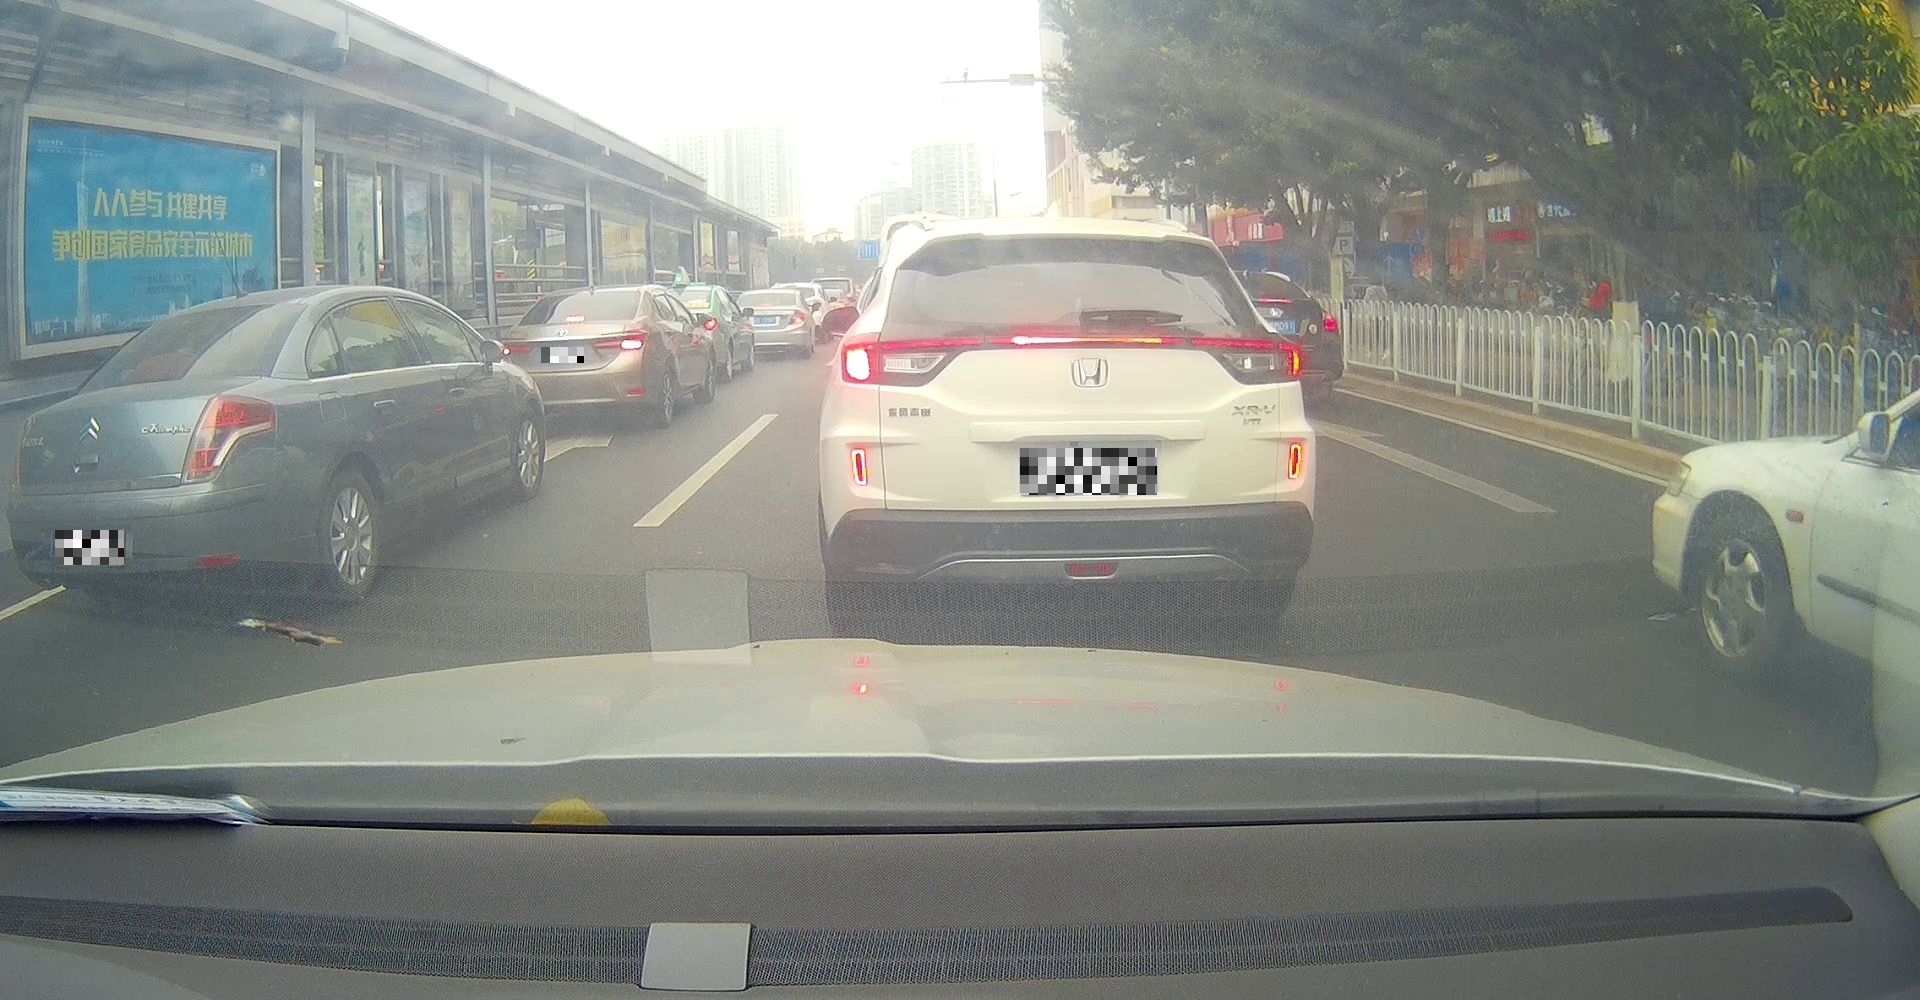L_light: (841, 338, 984, 387), (8, 451, 20, 486), (502, 346, 533, 355)
R_light: (178, 393, 276, 485), (1191, 338, 1302, 385), (593, 339, 643, 350)
T_light: (1012, 338, 1162, 346), (215, 308, 248, 313), (565, 317, 584, 322)
day-brake: (820, 214, 1316, 627), (500, 286, 651, 431)
day-no: (5, 287, 316, 607)
plate_1: (55, 530, 124, 565)
plate_2: (541, 346, 584, 363)
plate_3: (1020, 448, 1157, 495)
